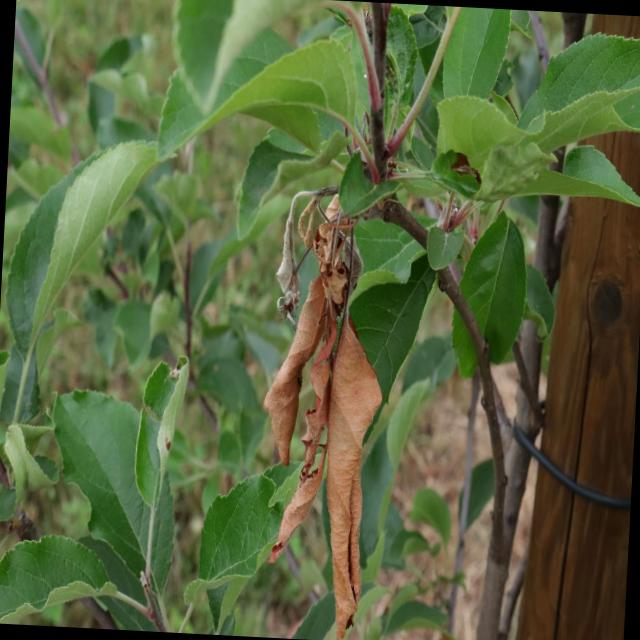-FireBlight-: (268, 172, 393, 620)
